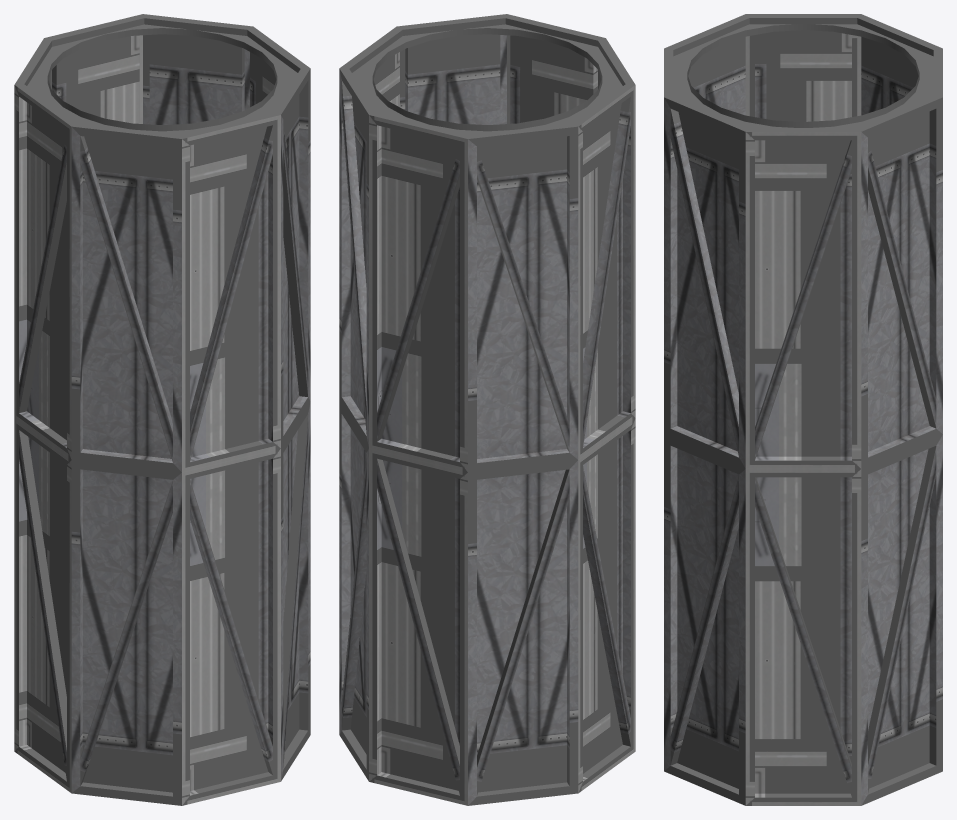
File: nashira_truss_s1_2.obj
3 views of the same model, side by side, from view 1: azimuth 30°, elevation 25°; view 2: azimuth 150°, elevation 25°; view 3: azimuth 270°, elevation 25° (orthographic).
Parts seen in each view (by area): view 1: mesh1; view 2: mesh1; view 3: mesh1.
Part boxes in pixels (x1,y1,x2,y2): mesh1: (14, 14, 310, 805); mesh1: (339, 14, 635, 805); mesh1: (664, 14, 942, 805).
Size of the model in its own units: 1.5 by 4 by 1.5.
Materials: 1 (1 with a texture image).
